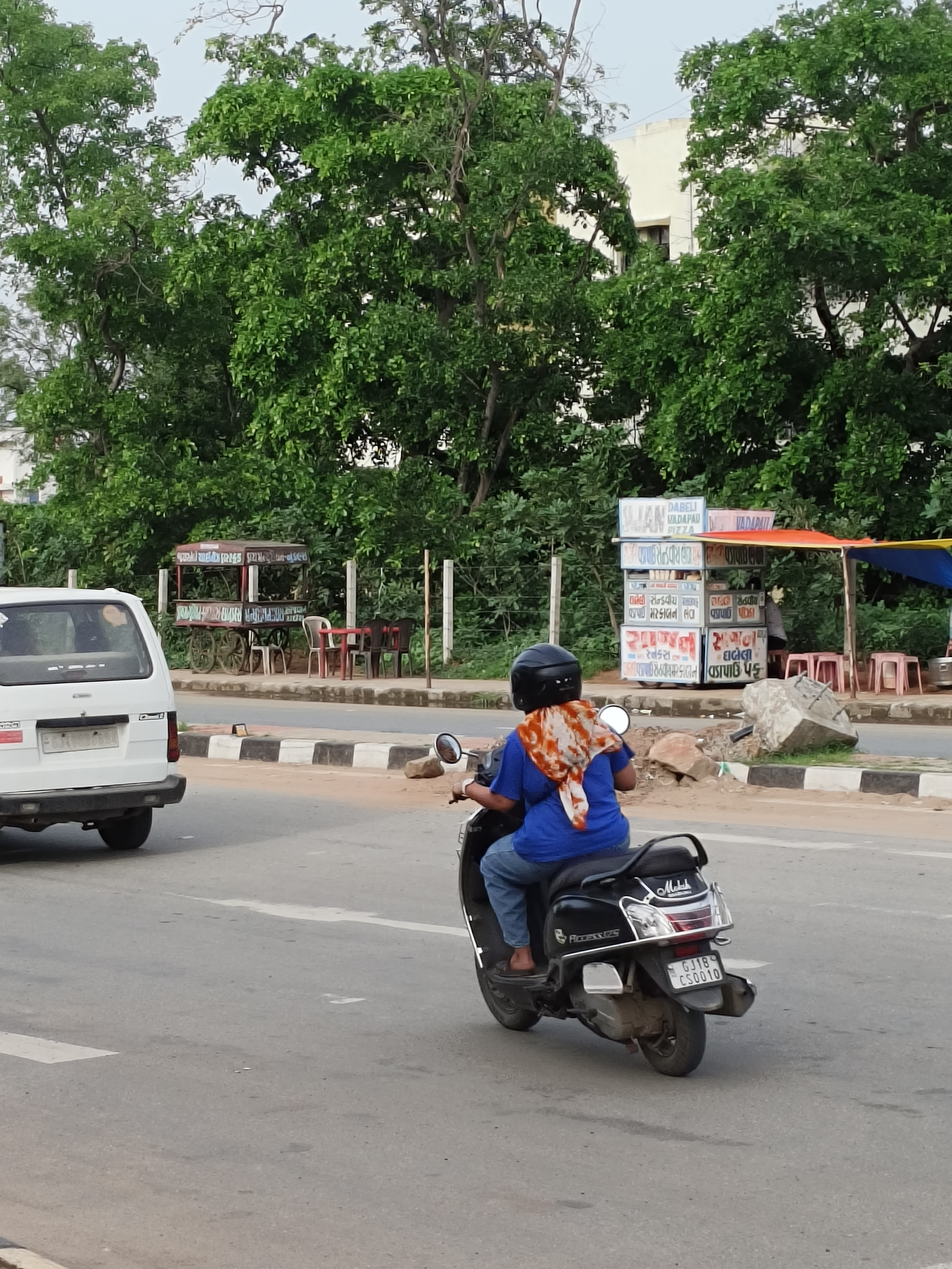BikeWithRider: (422, 632, 769, 1087)
Helmet: (500, 635, 591, 719)
